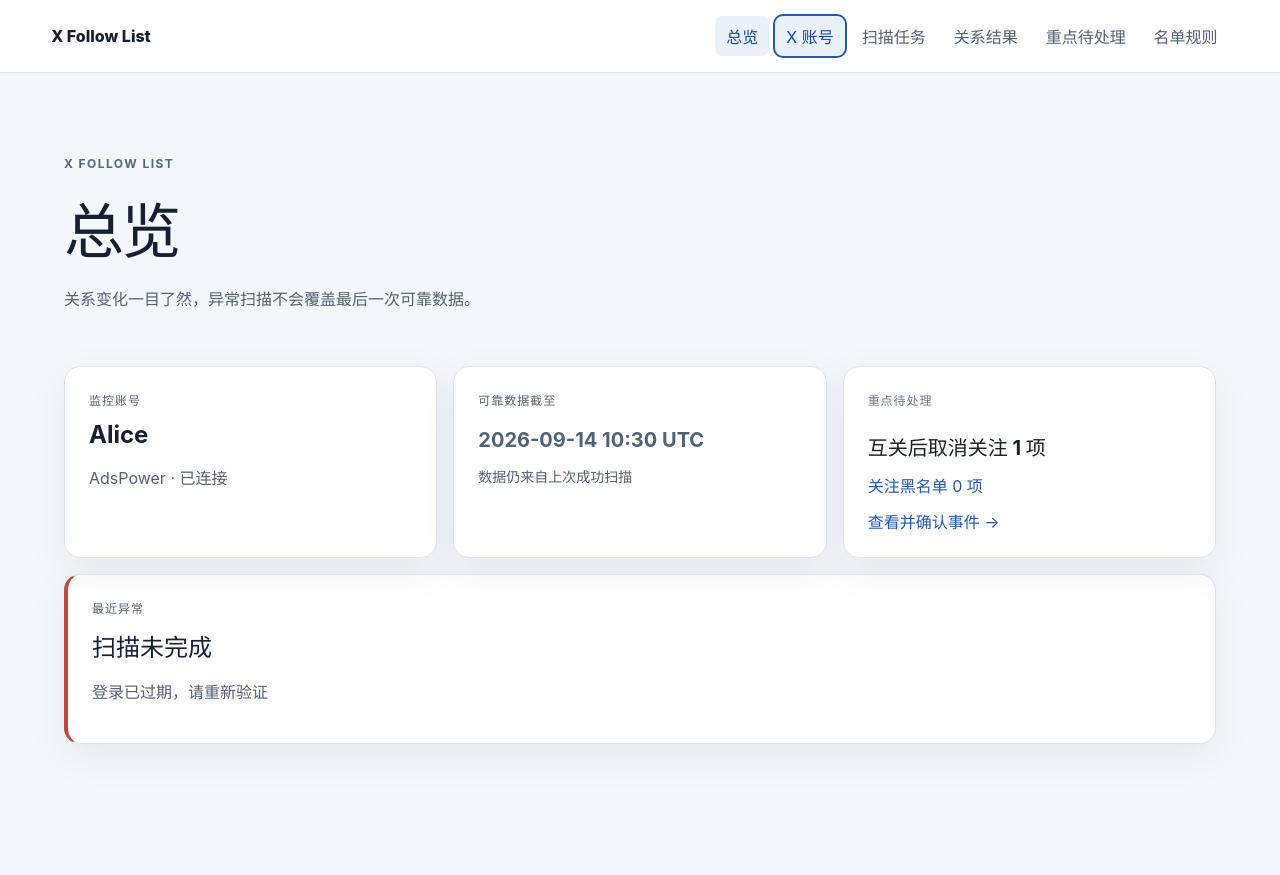
A-12 dashboard journey › provides keyboard-accessible navigation across the five admin pages
Press Enter
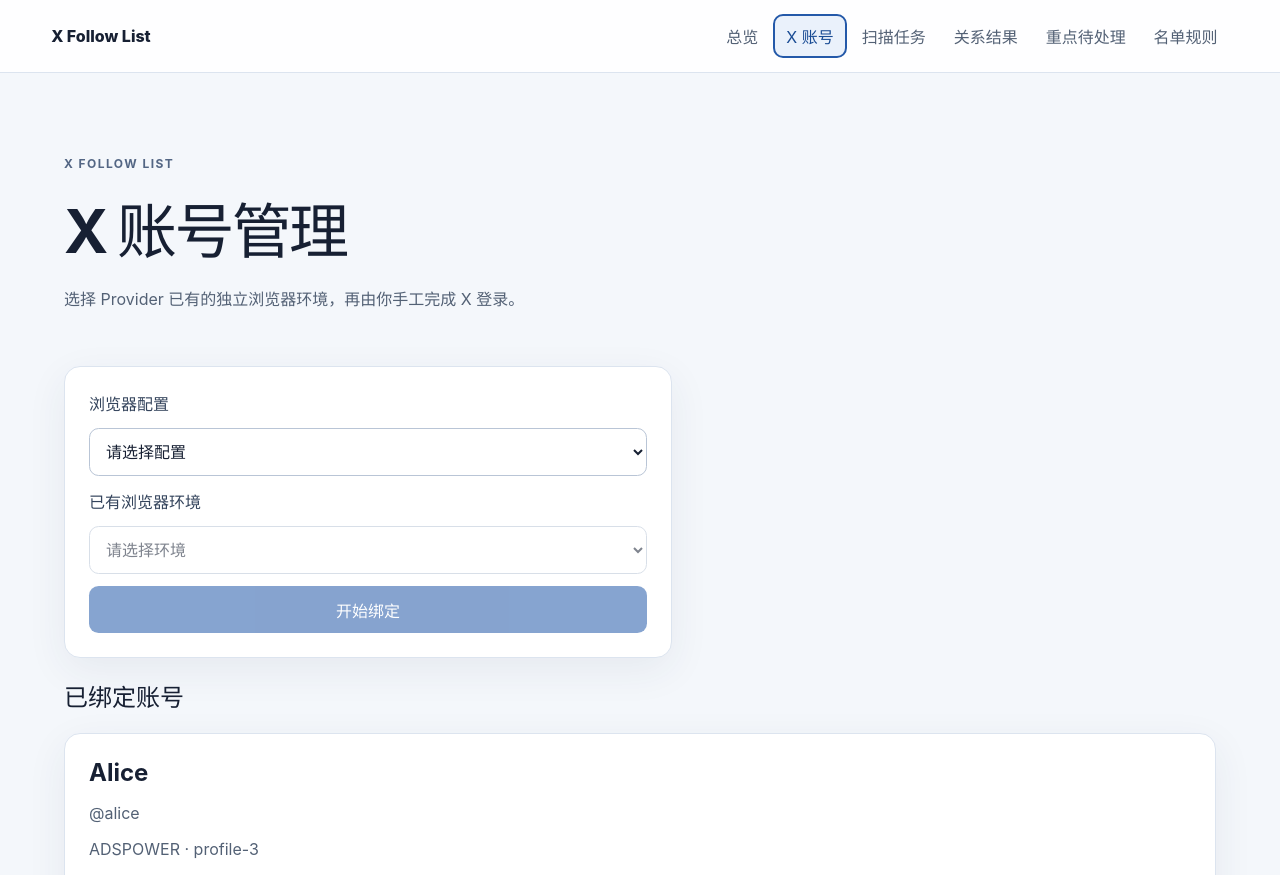
Expected: the navigation bar named "主导航" is shown, [715, 16, 1229, 56]
Expected: the heading "X 账号管理" is shown, [64, 195, 346, 267]
Click the link "扫描任务".
click(894, 37)  # box [862, 27, 926, 47]
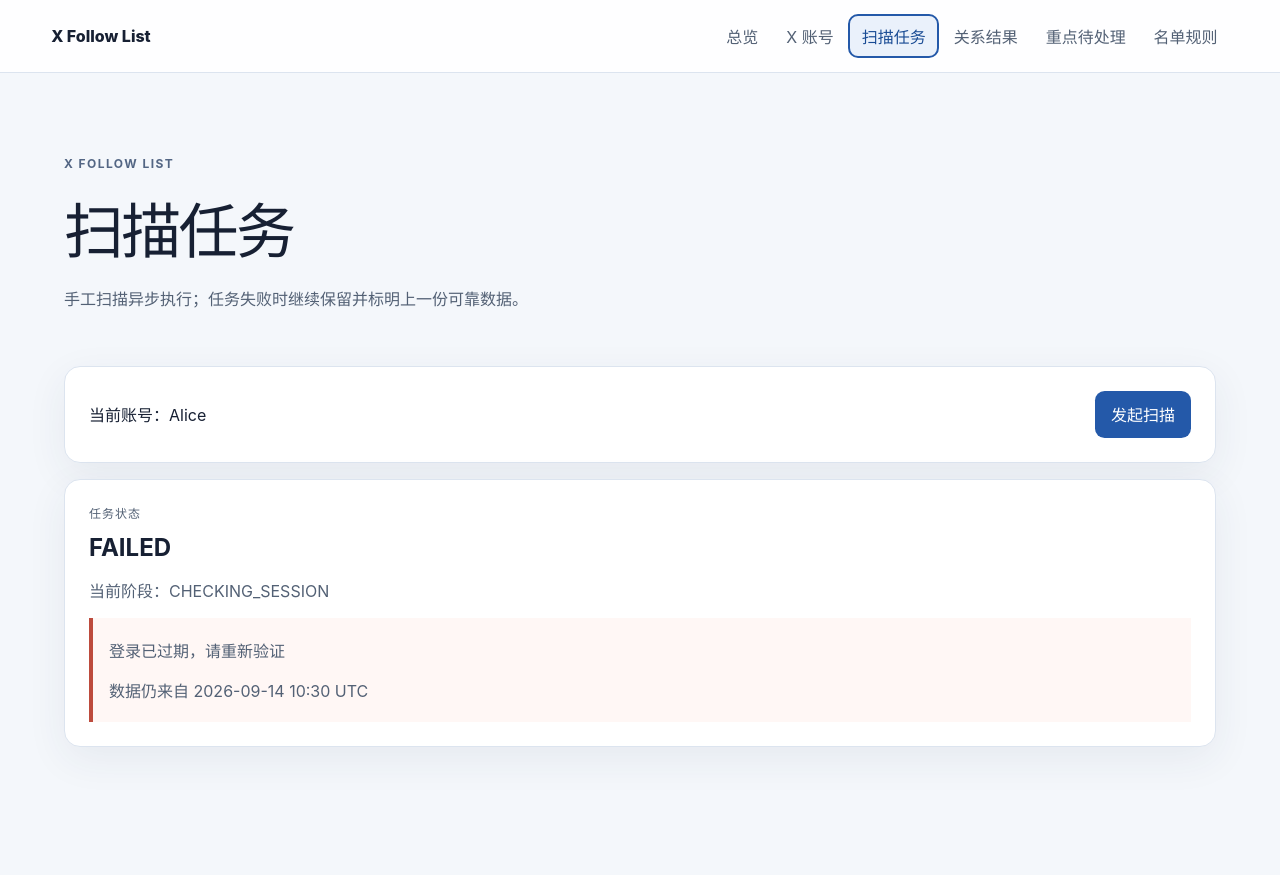
Expected: the heading "扫描任务" is shown, [64, 195, 293, 267]
Click the link "关系结果".
click(986, 37)  # box [954, 27, 1018, 47]
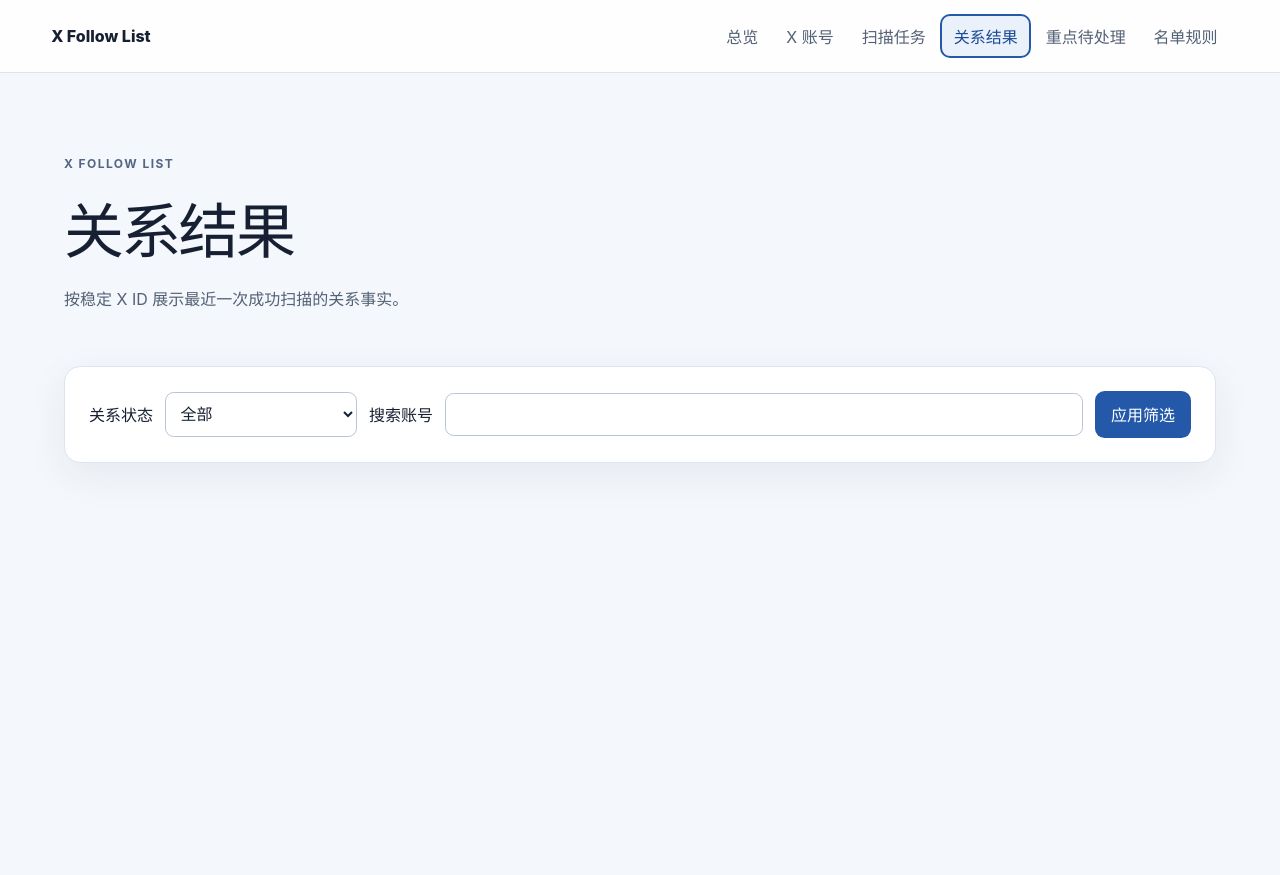
Expected: the heading "关系结果" is shown, [64, 195, 293, 267]
Click the link "重点待处理".
click(1086, 37)  # box [1046, 27, 1126, 47]
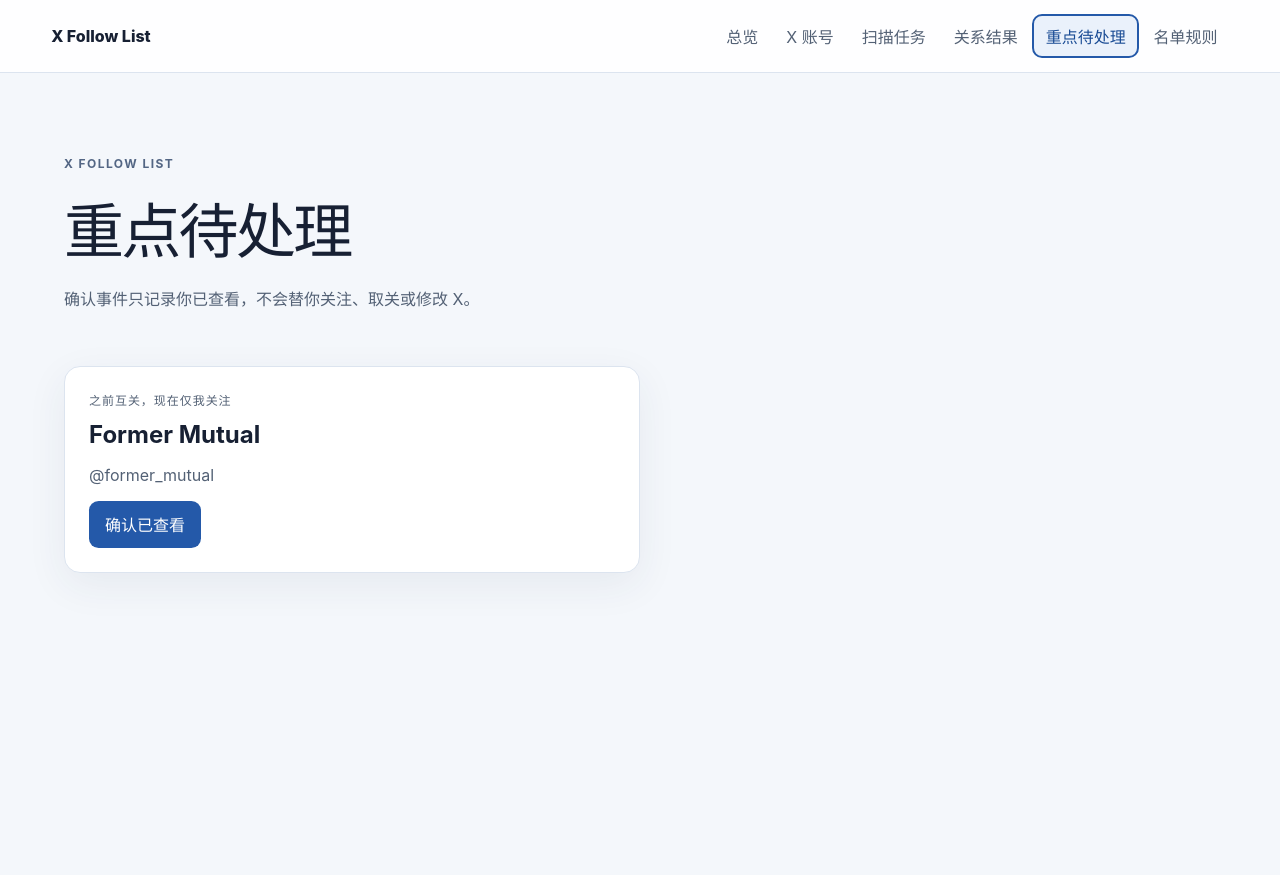
Expected: the heading "重点待处理" is shown, [64, 195, 350, 267]
Click the link "名单规则".
click(1186, 37)  # box [1154, 27, 1218, 47]
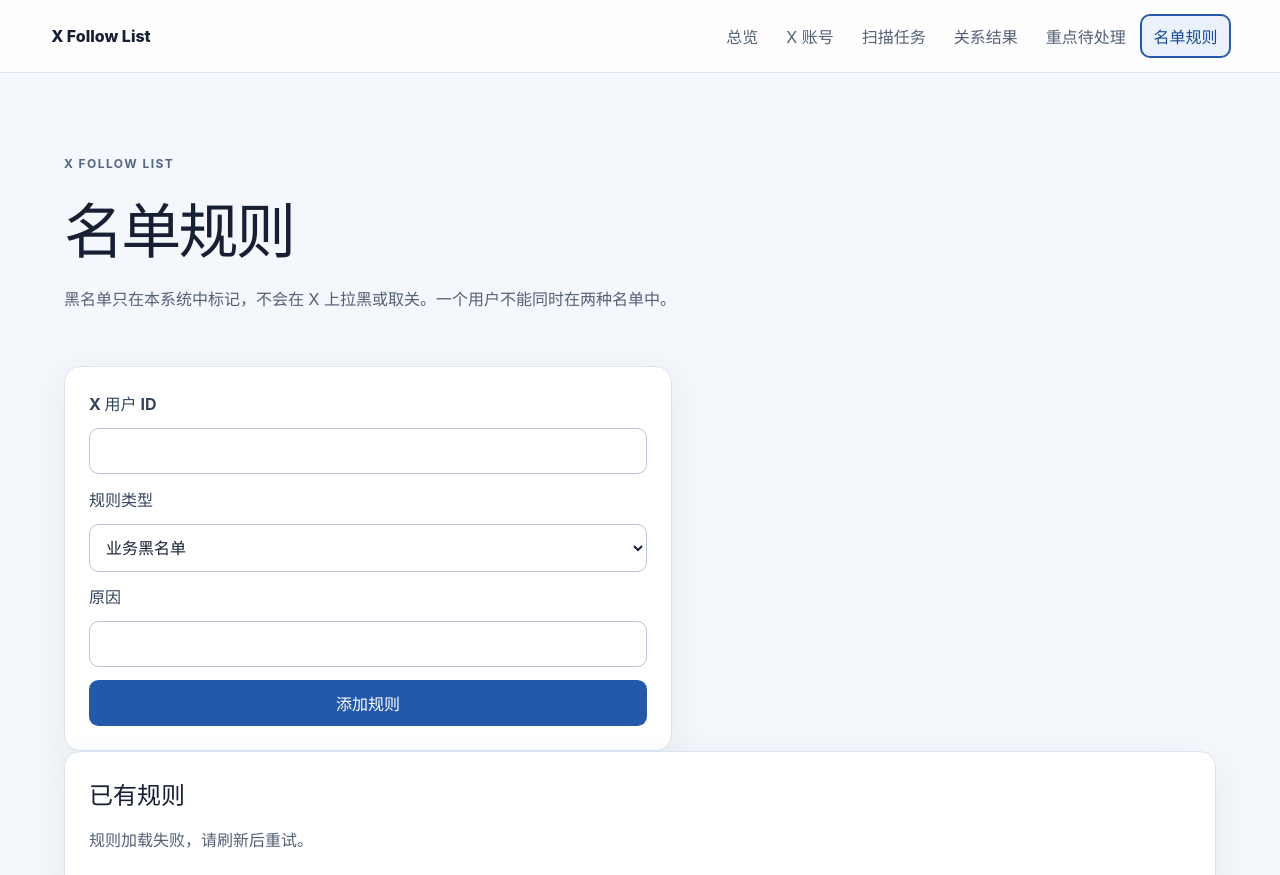
Expected: the heading "名单规则" is shown, [64, 195, 293, 267]
